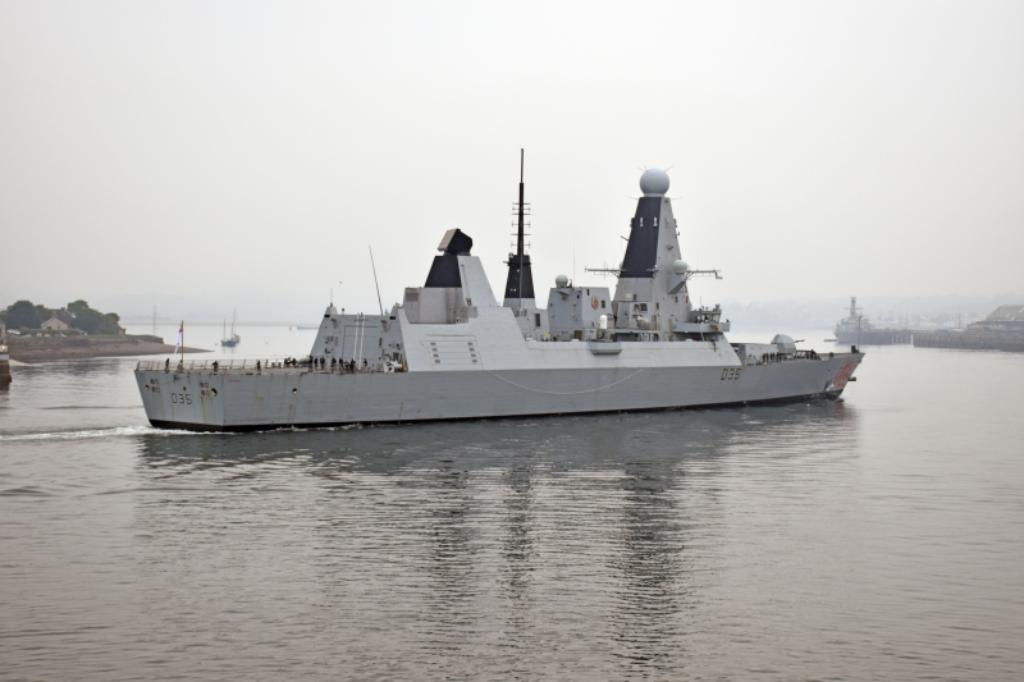Warship: (130, 145, 866, 439)
